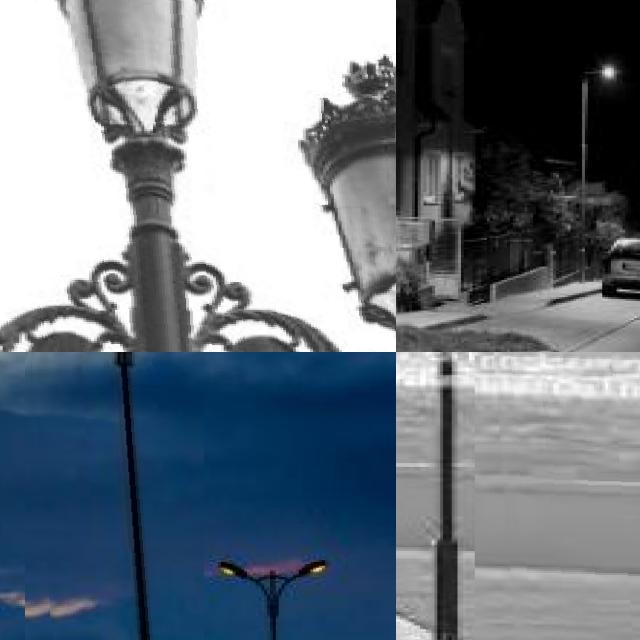street light: (0, 0, 396, 352), (396, 352, 616, 640), (25, 352, 203, 640), (475, 352, 640, 640), (221, 558, 327, 640), (579, 68, 615, 284)
